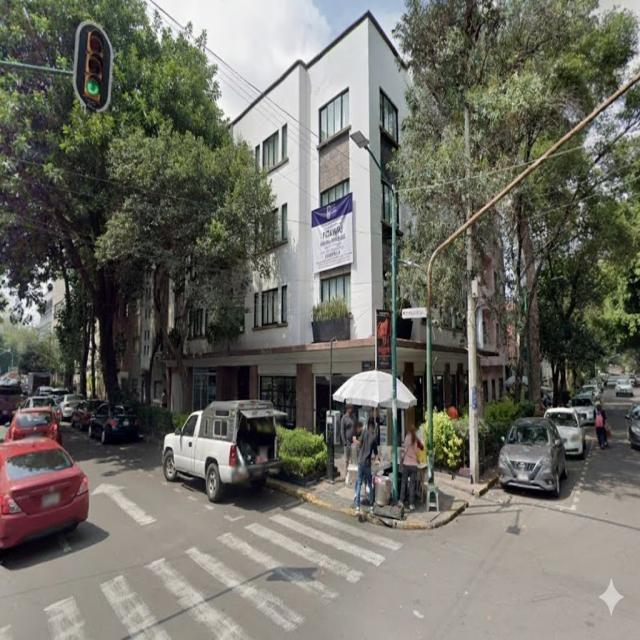stamps: (311, 194, 353, 273)
